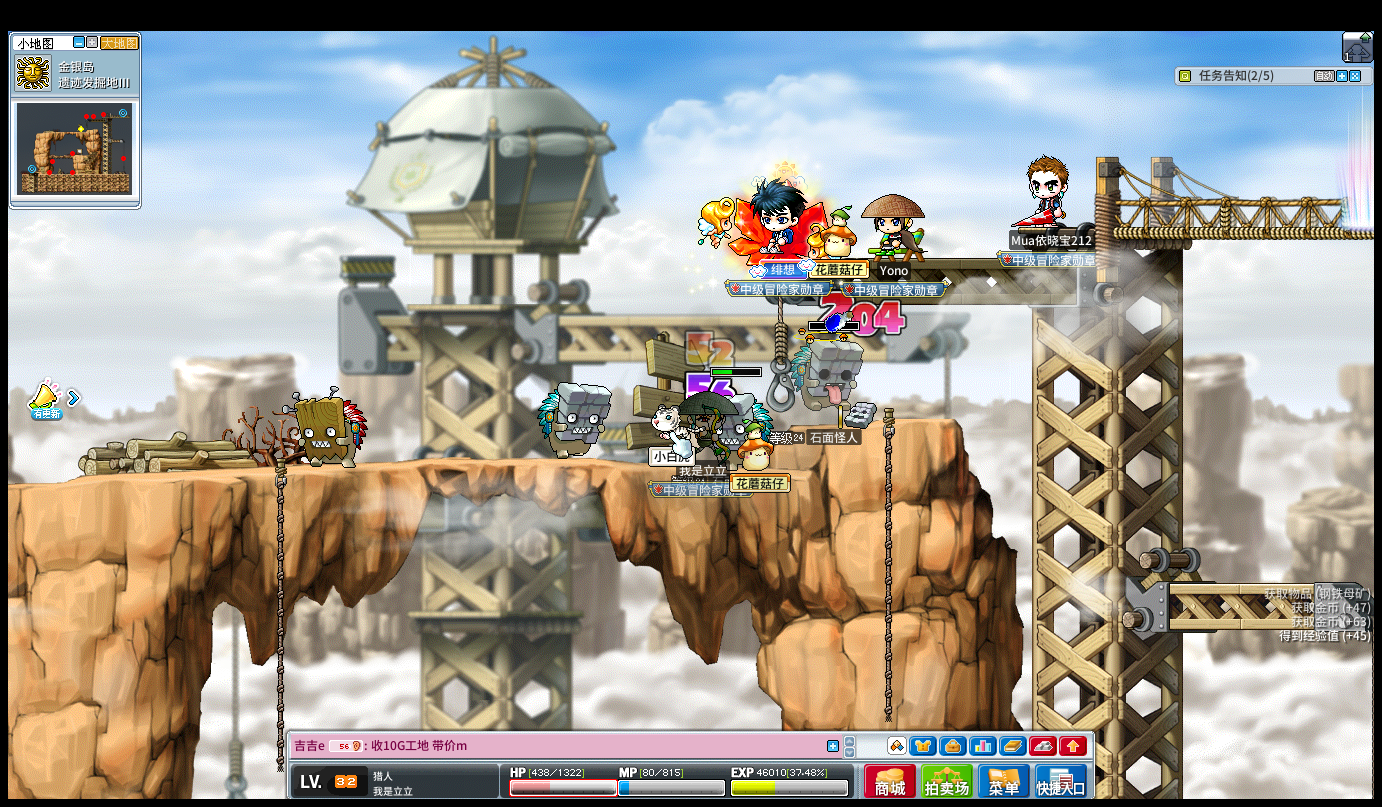floor: (26, 455, 849, 484), (41, 455, 849, 476), (1168, 580, 1366, 594)
monster: (286, 388, 368, 469), (538, 381, 611, 461), (790, 339, 862, 416)
rope: (271, 450, 287, 807), (880, 411, 895, 721), (880, 612, 894, 718)
